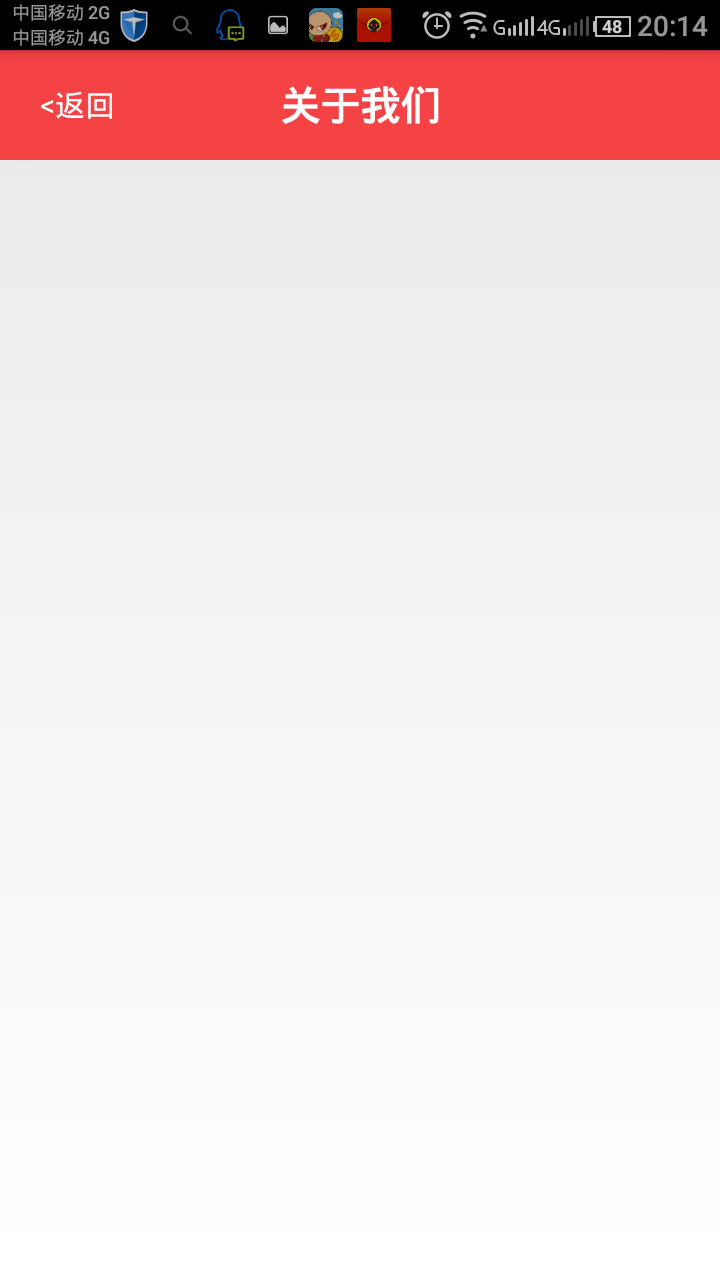button: (17, 73, 125, 129)
